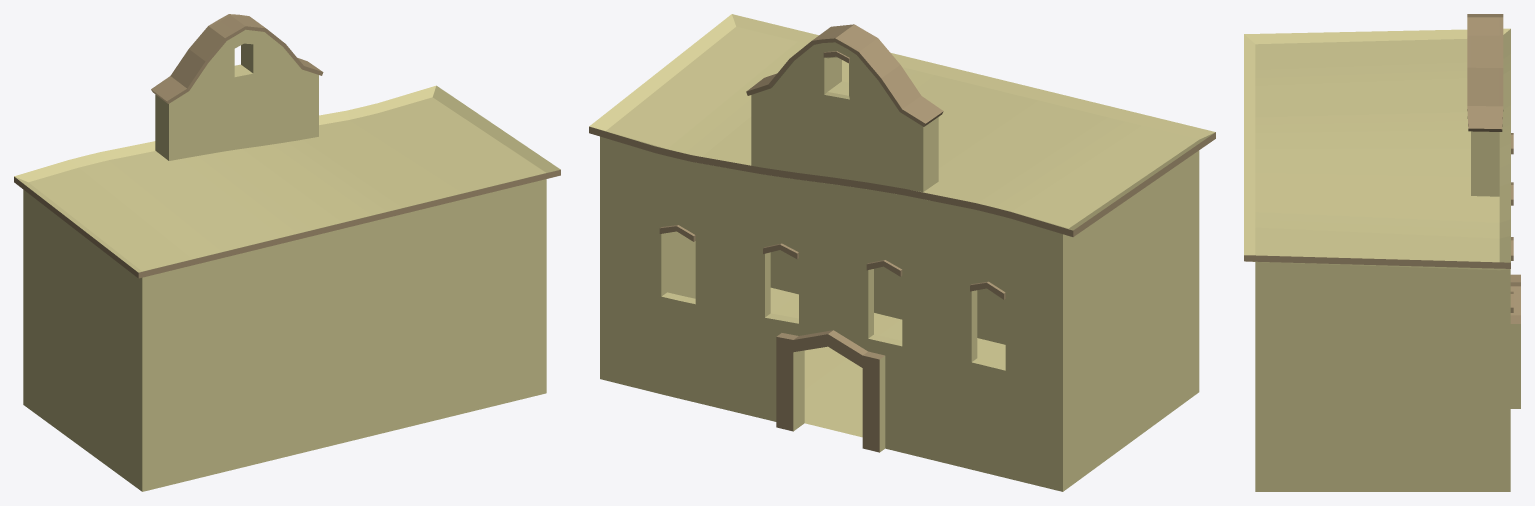
Rendered from Saloon.glb.
The picture shows the model from 3 angles, left to right: view 1: azimuth 30°, elevation 25°; view 2: azimuth 150°, elevation 25°; view 3: azimuth 270°, elevation 25°; orthographic projection. The views are drawn at different scales.
Visible parts, largest first — view 1: Saloon; view 2: Saloon; view 3: Saloon.
Boxes of the visible parts, x1,y1,x2,y2 form: Saloon: (14, 14, 560, 491); Saloon: (589, 14, 1215, 491); Saloon: (1244, 14, 1520, 491).
Size of the model in its own units: 16.92 by 13.18 by 8.96.
